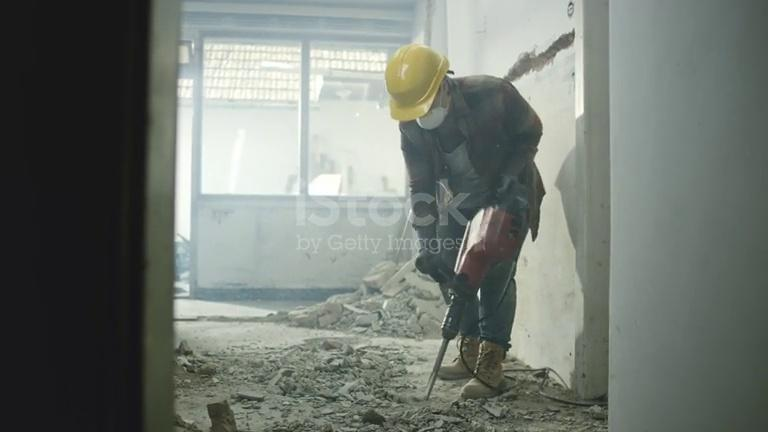helmet: (382, 43, 449, 122)
mask: (416, 106, 451, 130)
person: (385, 43, 547, 403)
